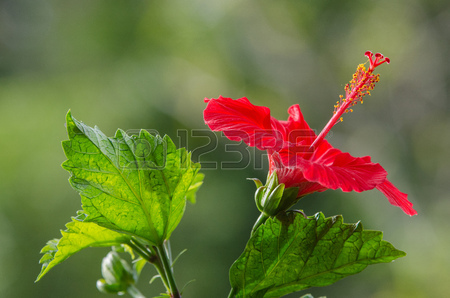Hibiscus: (188, 39, 417, 227), (80, 244, 141, 298)
